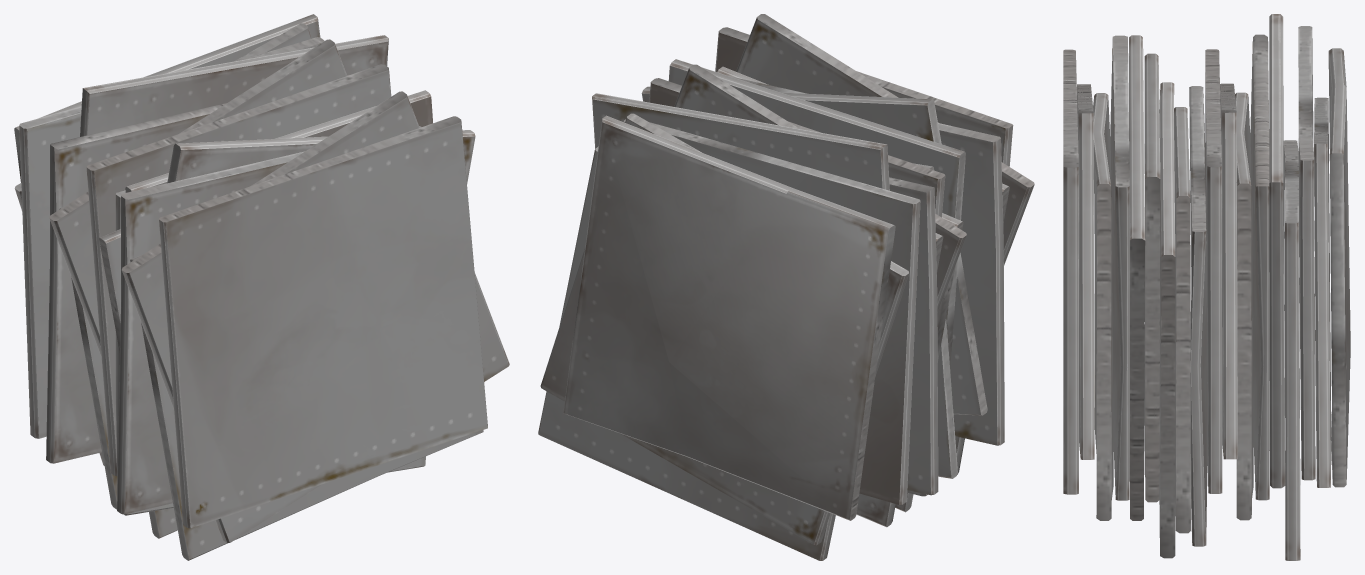
File: PanelStack2.FBX
3 views of the same model, side by side, from view 1: azimuth 30°, elevation 25°; view 2: azimuth 150°, elevation 25°; view 3: azimuth 270°, elevation 25° (orthographic). The views are drawn at different scales.
Parts seen in each view (by area): view 1: PanelStack2_LOD0; view 2: PanelStack2_LOD0; view 3: PanelStack2_LOD0.
Boxes of the visible parts, x1,y1,x2,y2 form: PanelStack2_LOD0: [14, 14, 509, 560]; PanelStack2_LOD0: [538, 14, 1034, 560]; PanelStack2_LOD0: [1063, 14, 1350, 560].
Size of what is drawn, in the model's own units: 7.11 by 7.45 by 4.33.
